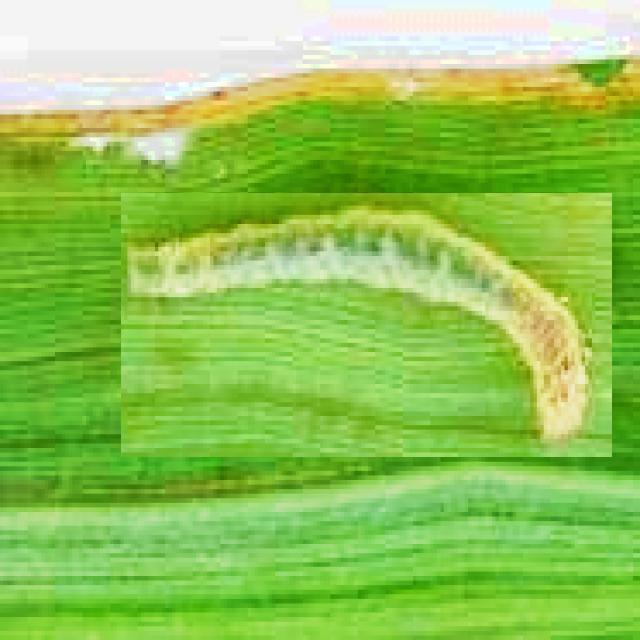leaf-folder: (121, 193, 612, 457)
